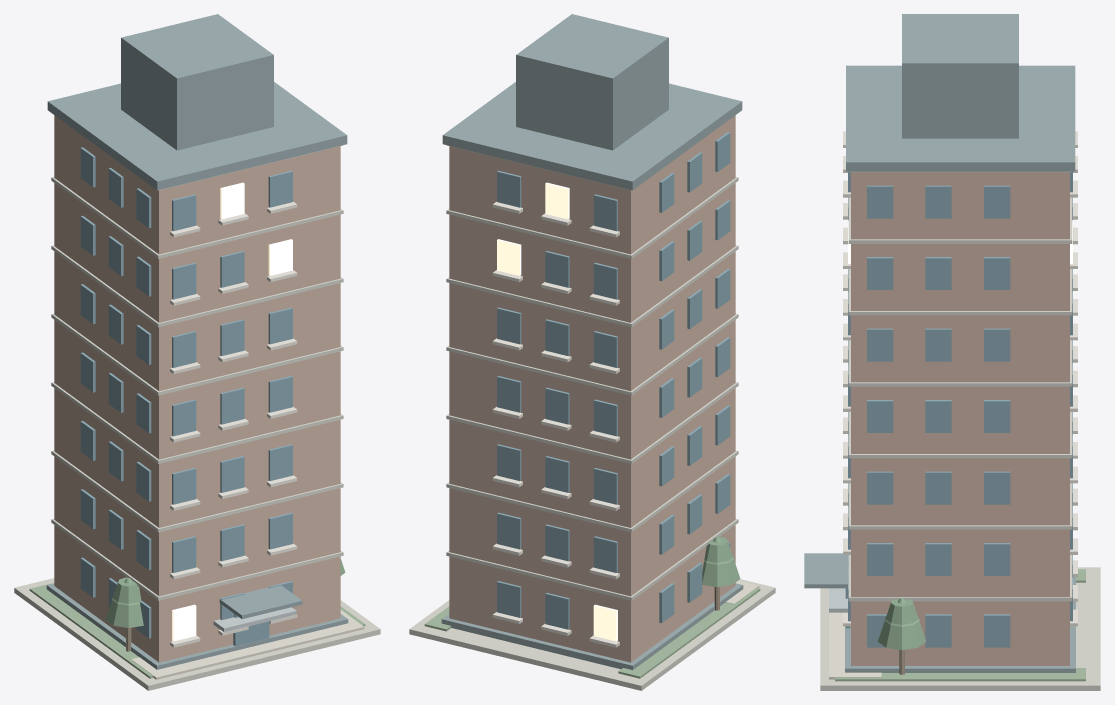
File: remaster_office_7.glb
The picture shows the model from 3 angles, left to right: view 1: azimuth 30°, elevation 25°; view 2: azimuth 150°, elevation 25°; view 3: azimuth 270°, elevation 25°; orthographic projection. The views are drawn at different scales.
Visible parts, largest first — view 1: remaster_office_7 brick, remaster_office_7 roof, remaster_office_7 glass, remaster_office_7 stone, remaster_office_7 white, remaster_office_7 cream, remaster_office_7 warm, remaster_office_7 green, remaster_office_7 leaf, remaster_office_7 metal; view 2: remaster_office_7 brick, remaster_office_7 roof, remaster_office_7 glass, remaster_office_7 stone, remaster_office_7 white, remaster_office_7 warm, remaster_office_7 green, remaster_office_7 leaf; view 3: remaster_office_7 brick, remaster_office_7 roof, remaster_office_7 glass, remaster_office_7 stone, remaster_office_7 white, remaster_office_7 green, remaster_office_7 leaf, remaster_office_7 cream.
Boxes of the visible parts, x1,y1,x2,y2 form: remaster_office_7 brick: (54,115,340,662); remaster_office_7 roof: (46,14,348,669); remaster_office_7 glass: (80,147,292,646); remaster_office_7 stone: (14,145,380,690); remaster_office_7 white: (170,201,297,647); remaster_office_7 cream: (131,610,364,679); remaster_office_7 warm: (172,182,292,641); remaster_office_7 green: (29,583,365,678); remaster_office_7 leaf: (105,559,345,627); remaster_office_7 metal: (213,607,296,632); remaster_office_7 brick: (449,115,735,662); remaster_office_7 roof: (441,14,743,669); remaster_office_7 glass: (497,132,730,629); remaster_office_7 stone: (409,145,775,690); remaster_office_7 white: (492,201,619,647); remaster_office_7 warm: (497,182,617,641); remaster_office_7 green: (424,588,760,678); remaster_office_7 leaf: (702,536,740,586); remaster_office_7 brick: (851,172,1069,665); remaster_office_7 roof: (804,14,1075,672); remaster_office_7 glass: (845,171,1072,647); remaster_office_7 stone: (820,171,1100,690); remaster_office_7 white: (843,131,1077,626); remaster_office_7 green: (835,569,1085,681); remaster_office_7 leaf: (878,597,926,650); remaster_office_7 cream: (829,612,881,679).
Size of the model in its own units: 9.64 by 22.4 by 10.15.
